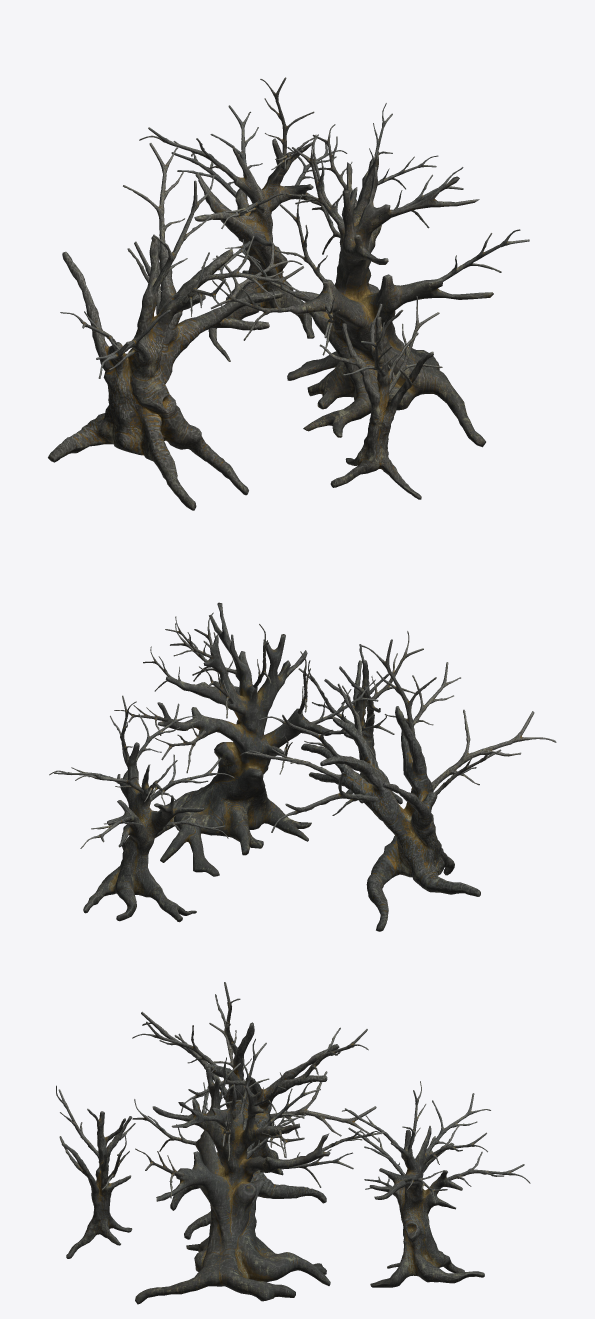
The picture shows the model from 3 angles, top to bottom: view 1: azimuth 30°, elevation 25°; view 2: azimuth 150°, elevation 25°; view 3: azimuth 270°, elevation 25°; orthographic projection. The views are drawn at different scales.
Visible parts, largest first — view 1: tree1, tree4, tree2, tree3; view 2: tree1, tree4, tree2, tree3; view 3: tree1, tree2, tree4, tree3.
Part boxes in pixels (x1,y1,x2,y2): tree1: (211, 103, 529, 447); tree4: (48, 143, 309, 510); tree2: (139, 77, 347, 361); tree3: (319, 296, 442, 499); tree1: (114, 602, 394, 876); tree4: (240, 639, 556, 931); tree2: (49, 695, 234, 922); tree3: (298, 631, 423, 804); tree1: (132, 1038, 385, 1304); tree2: (342, 1081, 530, 1287); tree4: (132, 982, 379, 1239); tree3: (56, 1085, 135, 1258).
Size of the model in its own units: 3720 by 2397 by 4381.
5 materials, 5 textured.
